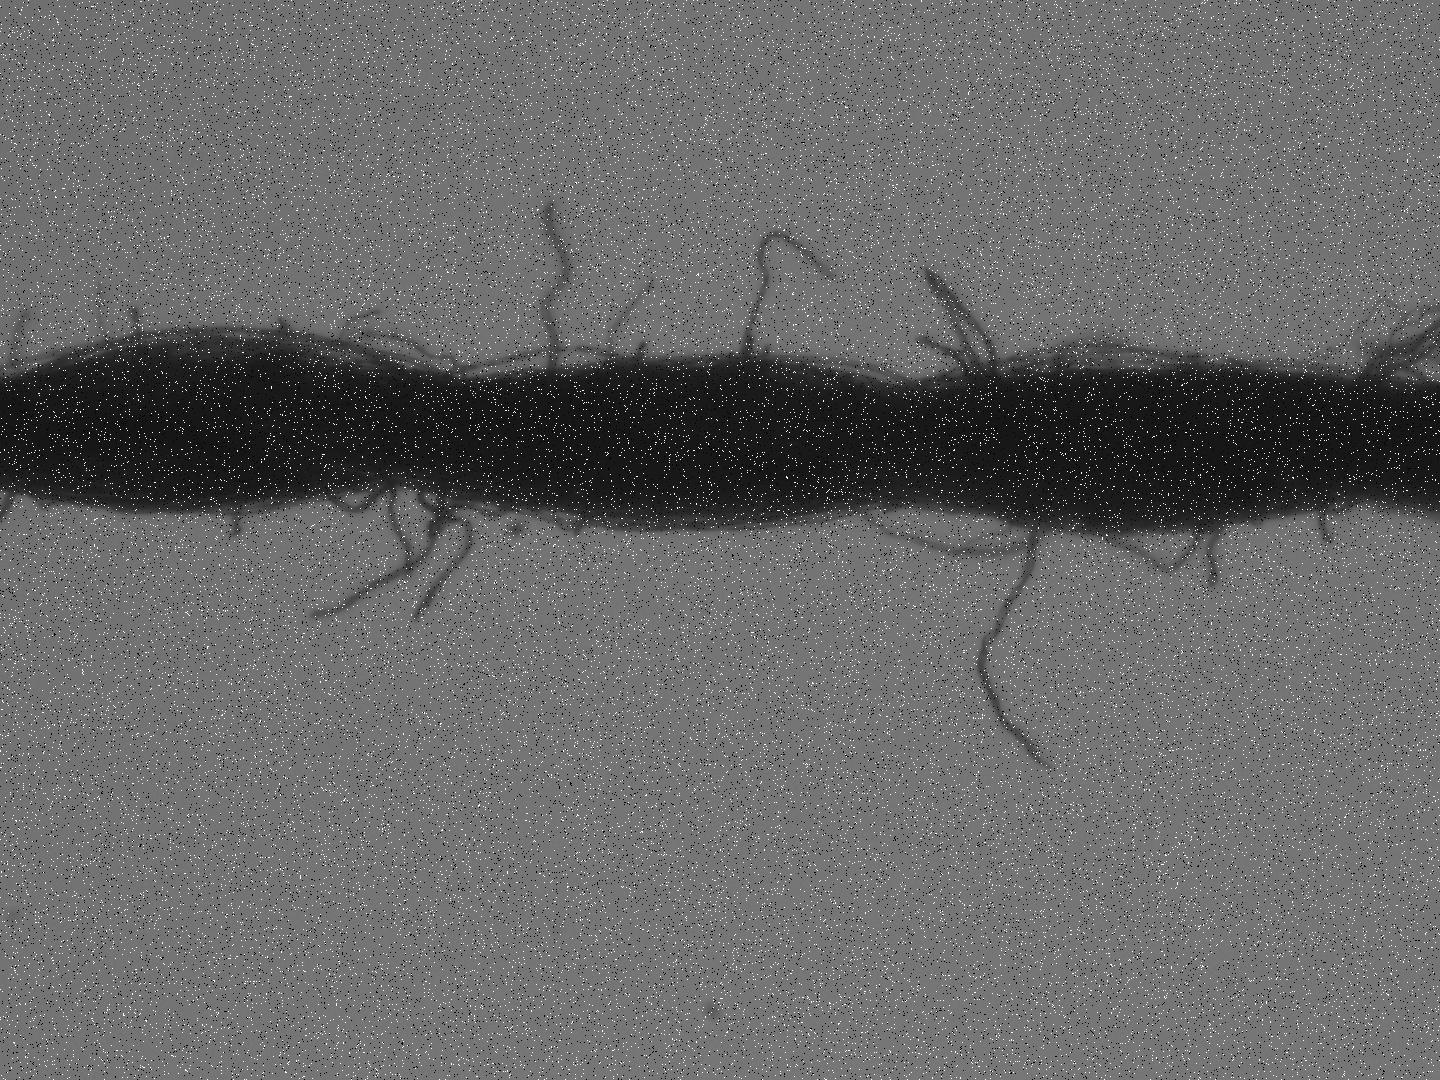loop_fiber: (935, 345, 1211, 386), (847, 506, 1052, 555), (922, 271, 998, 382), (262, 340, 437, 377), (446, 341, 630, 374), (414, 482, 528, 534), (1103, 524, 1208, 573), (773, 355, 910, 387), (328, 483, 396, 513), (1369, 360, 1430, 385)
protruding_fiber: (976, 523, 1053, 773), (747, 230, 833, 357), (541, 200, 568, 365), (1205, 528, 1229, 588), (1314, 505, 1337, 547), (127, 305, 145, 347), (231, 498, 244, 539)
